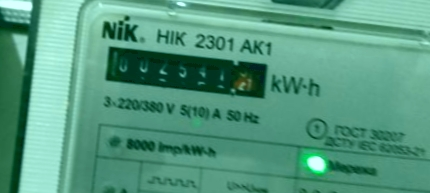0: (114, 51, 129, 74), (135, 52, 149, 74)
1: (213, 62, 227, 83)
2: (155, 55, 169, 76)
4: (194, 59, 209, 81)
5: (173, 56, 188, 80)
6: (234, 77, 247, 93)
screen: (92, 34, 279, 109)
